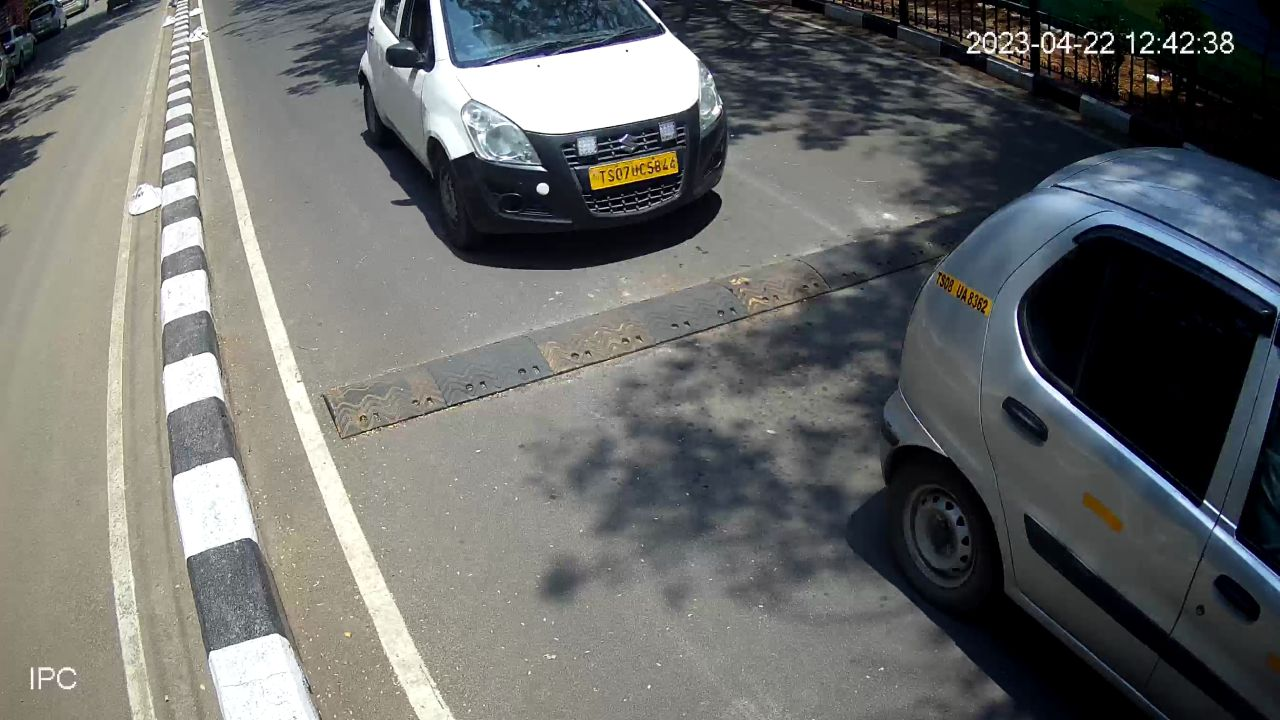license_plate: (584, 143, 683, 196)
